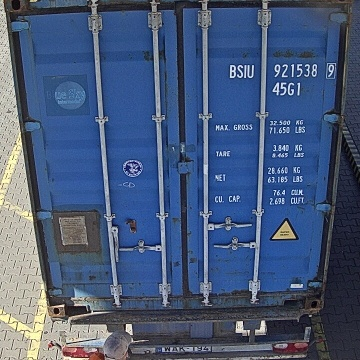serial_id: (230, 63, 336, 77)
